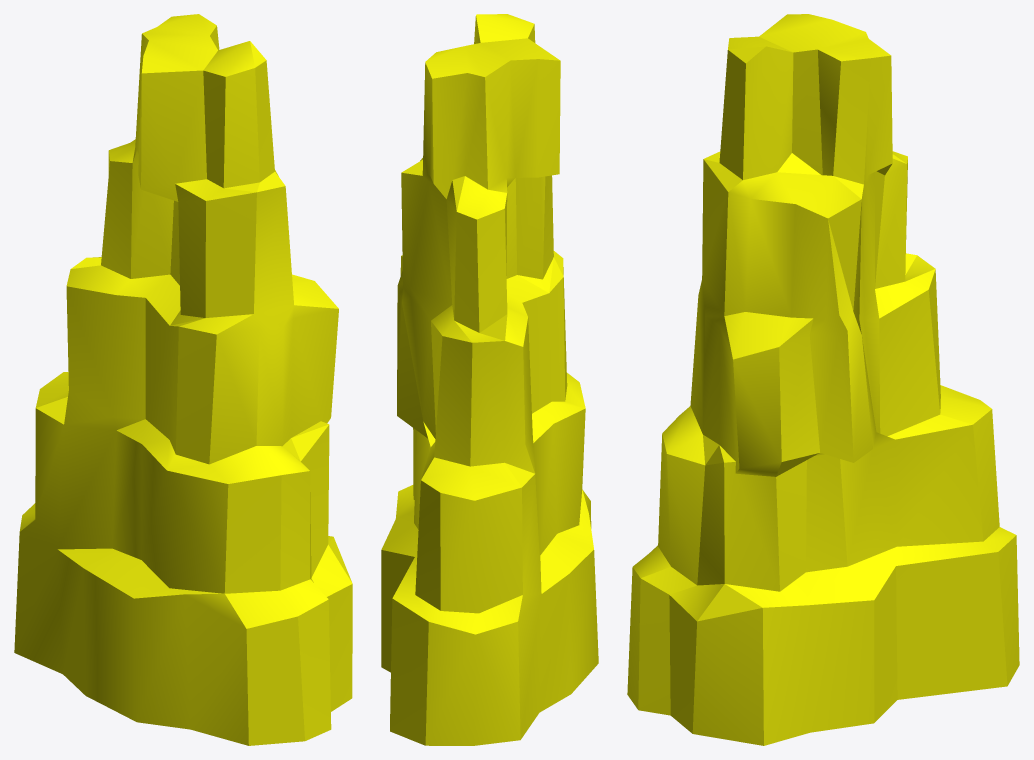
3 renders of one model, left to right at view 1: azimuth 30°, elevation 25°; view 2: azimuth 150°, elevation 25°; view 3: azimuth 270°, elevation 25°, orthographic. The views are drawn at different scales.
Visible parts, largest first — view 1: military_mountain1; view 2: military_mountain1; view 3: military_mountain1.
Boxes of the visible parts, x1=… form: military_mountain1: x1=14, y1=14, x2=352, y2=745; military_mountain1: x1=381, y1=14, x2=598, y2=745; military_mountain1: x1=627, y1=14, x2=1019, y2=745.
Size of the model in its own units: 0.1045 by 0.2792 by 0.1515.
1 material, 1 textured.
